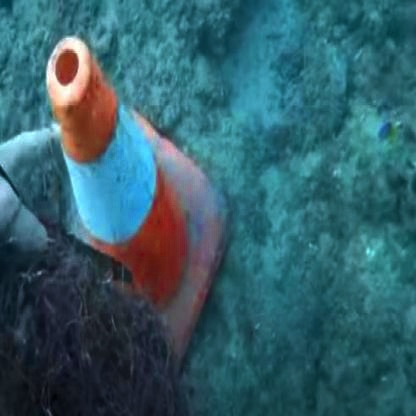misc: (65, 38, 223, 347)
